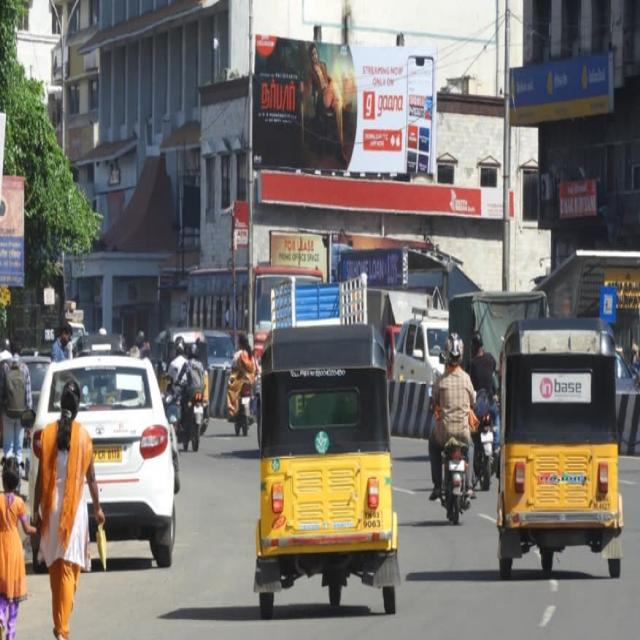Werbetafel frei: (256, 34, 436, 184)
